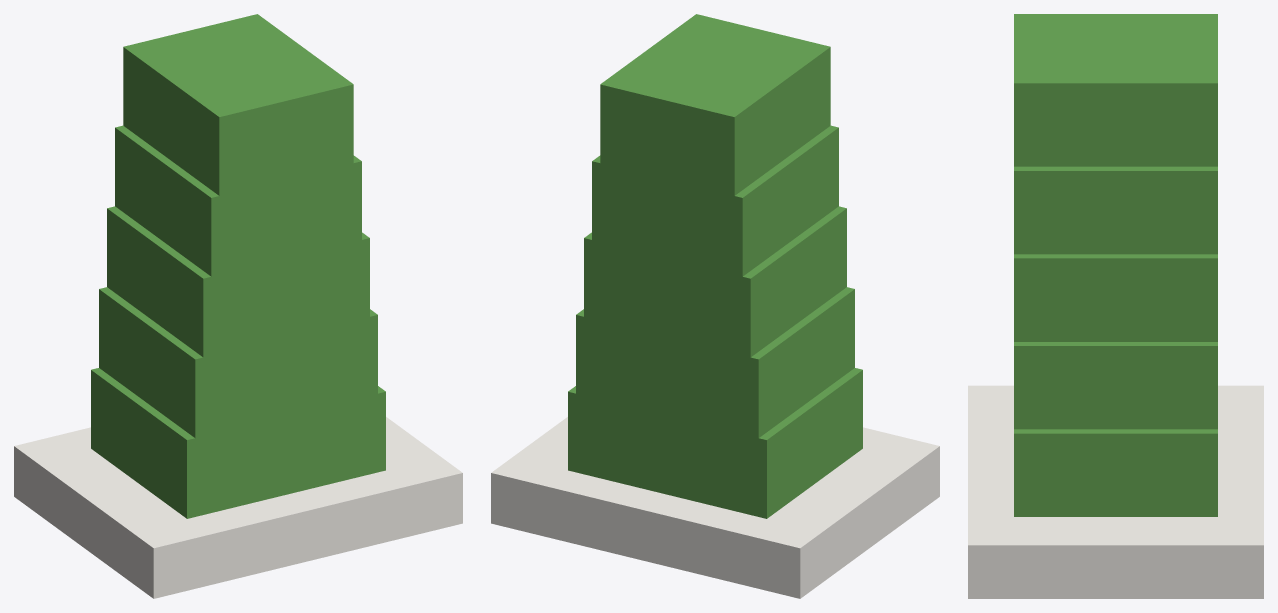
File: indoor_garden-lv5.glb
3 renders of one model, left to right at view 1: azimuth 30°, elevation 25°; view 2: azimuth 150°, elevation 25°; view 3: azimuth 270°, elevation 25°, orthographic. The views are drawn at different scales.
Visible parts, largest first — view 1: Base, Level5, Level1, Level2, Level3, Level4; view 2: Base, Level5, Level1, Level2, Level3, Level4; view 3: Base, Level5, Level4, Level1, Level2, Level3.
Part boxes in pixels (x1,y1,x2,y2): Base: (14, 417, 462, 598); Level5: (123, 14, 353, 195); Level1: (91, 368, 385, 518); Level2: (99, 287, 377, 438); Level3: (107, 206, 369, 357); Level4: (115, 125, 361, 276); Base: (491, 417, 939, 598); Level5: (600, 14, 830, 195); Level1: (568, 368, 862, 518); Level2: (576, 287, 854, 438); Level3: (584, 206, 846, 357); Level4: (592, 125, 838, 276); Base: (968, 385, 1263, 598); Level5: (1014, 14, 1217, 166); Level4: (1014, 166, 1217, 254); Level1: (1014, 429, 1217, 516); Level2: (1014, 342, 1217, 429); Level3: (1014, 254, 1217, 341).
Size of the model in its own units: 1.15 by 1.58 by 0.9.
